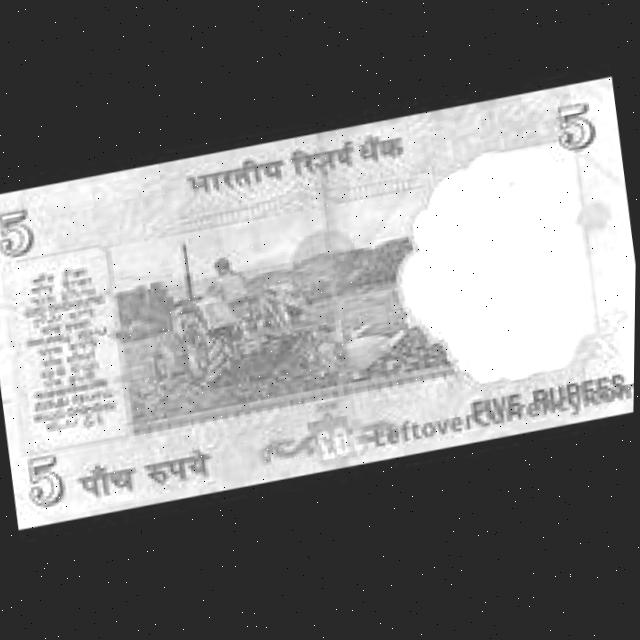banknote: (0, 77, 639, 534)
